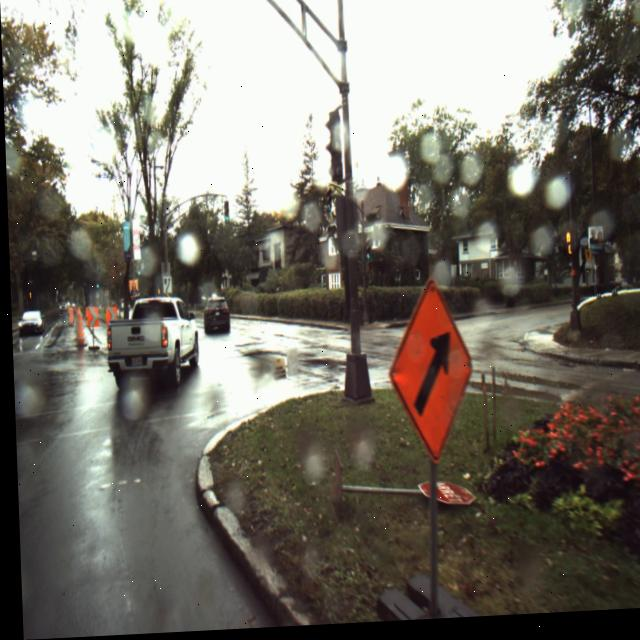car: (102, 297, 198, 388), (202, 297, 228, 338), (16, 310, 43, 335)
trafficLight: (325, 114, 343, 188), (561, 234, 574, 265)
trafficLight-Green: (222, 201, 229, 228), (363, 252, 371, 265)
